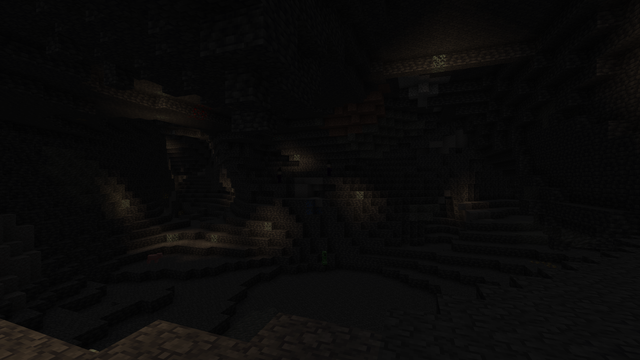cochons: (146, 253, 158, 263)
creepers: (321, 250, 327, 265)
sorcieres: (276, 170, 281, 183), (326, 163, 331, 176)
